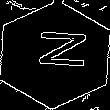N_W: (25, 34, 85, 76)
